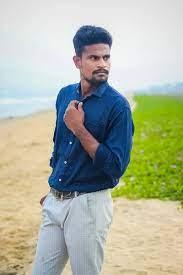Human: (30, 25, 130, 275)
